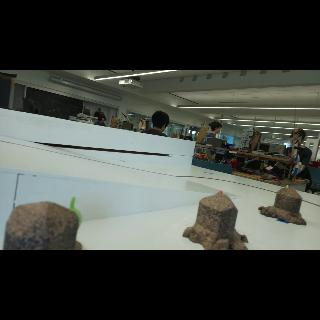teletubby: (69, 197, 82, 227), (218, 191, 223, 194), (286, 185, 289, 188)
